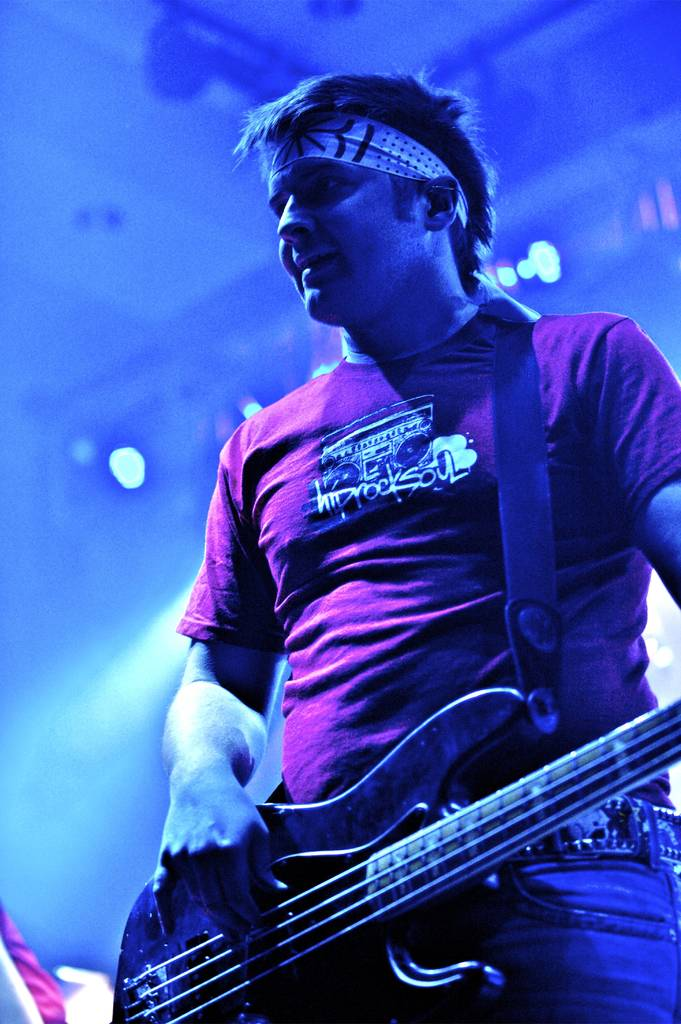guitar: (110, 681, 681, 1023)
